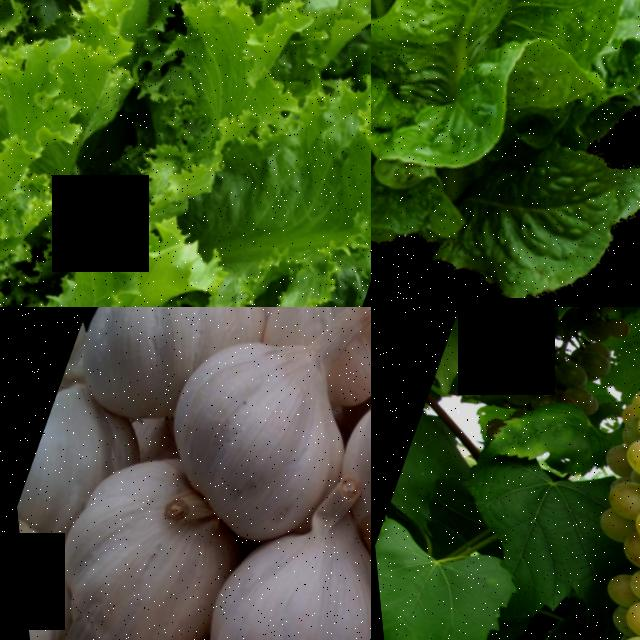garlic: (132, 307, 371, 551), (20, 450, 251, 640), (164, 505, 371, 640), (50, 307, 241, 441), (299, 338, 371, 618), (252, 307, 371, 409)
grapes: (566, 310, 640, 634)
lettuce: (0, 0, 371, 307), (371, 0, 640, 307), (0, 0, 261, 307)
